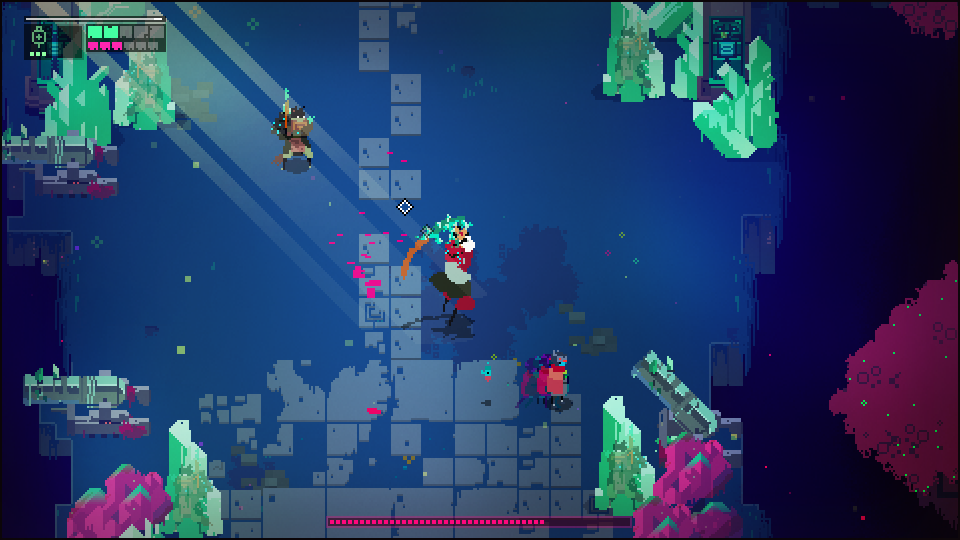hanged_man: (403, 211, 479, 329)
player: (544, 348, 569, 406)
